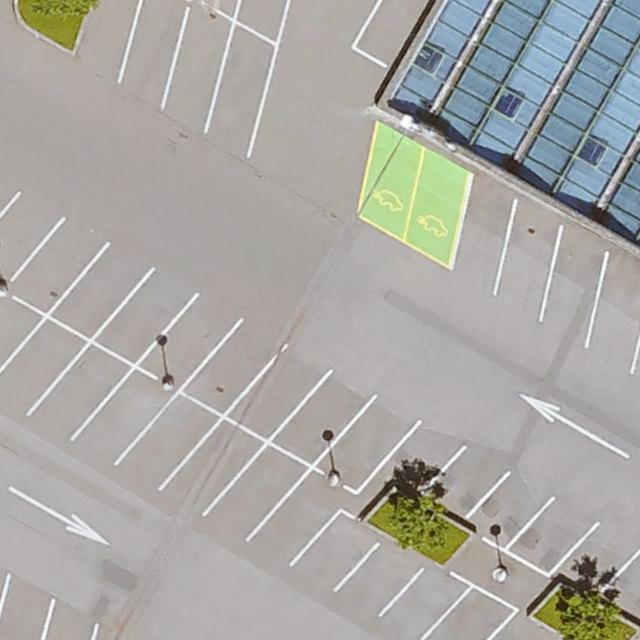tree: (560, 587, 617, 640), (392, 492, 444, 544)
